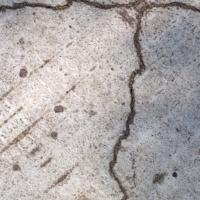crack: (0, 0, 195, 199)
